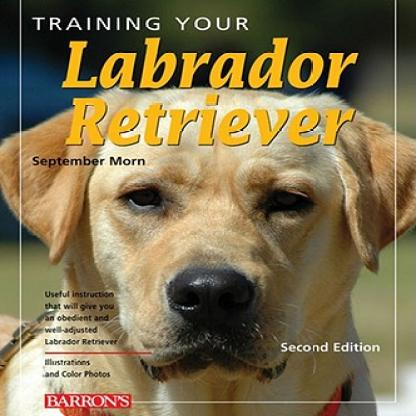Labarador Retriever: (5, 90, 416, 416)
